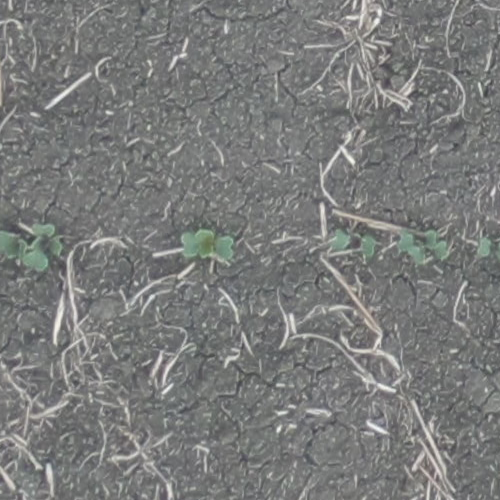clumped: (0, 223, 63, 271)
isolated: (395, 229, 448, 264), (181, 230, 235, 263), (329, 229, 376, 259), (477, 237, 499, 264)
